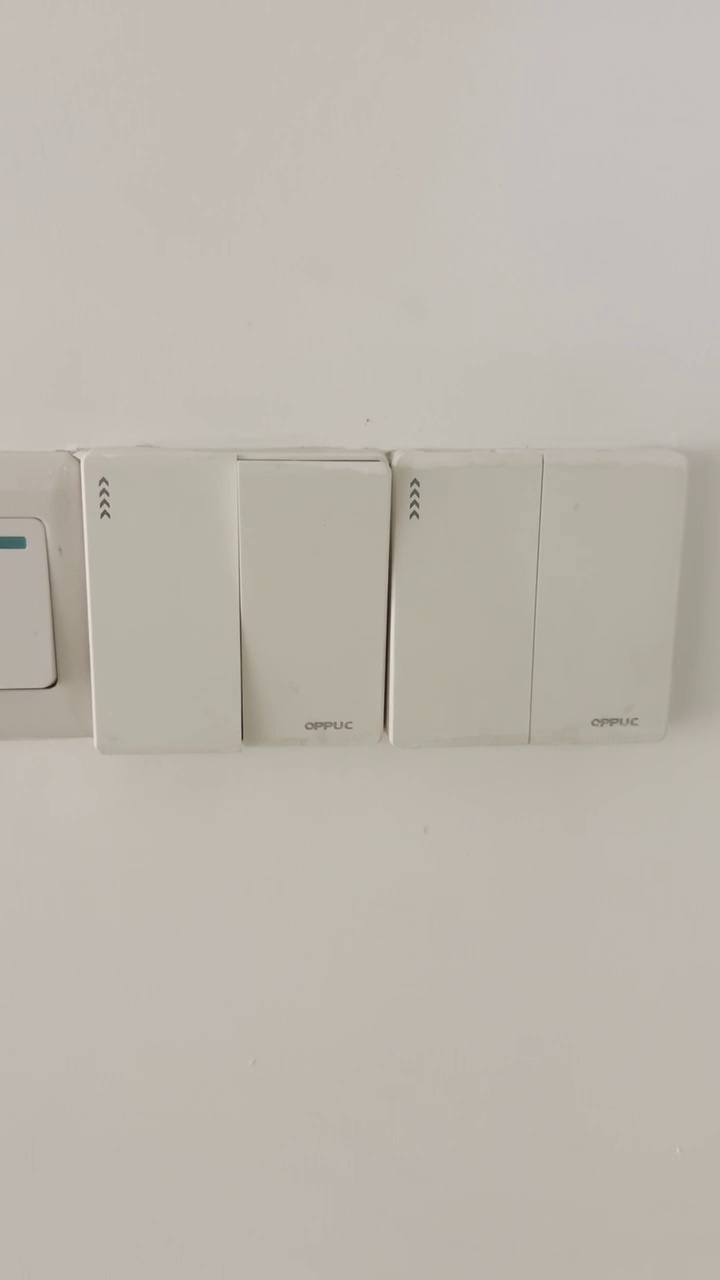button1: (89, 456, 238, 749), (534, 463, 682, 743), (393, 457, 535, 740), (244, 467, 386, 744)
